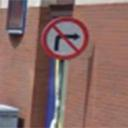NoVirarDireita: (40, 16, 89, 62)
